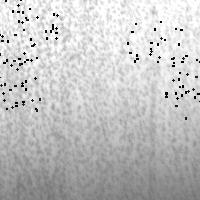pitted_surface: (1, 1, 199, 199), (0, 0, 56, 45), (127, 21, 185, 62), (0, 57, 39, 113), (165, 58, 200, 117), (0, 50, 30, 108)
